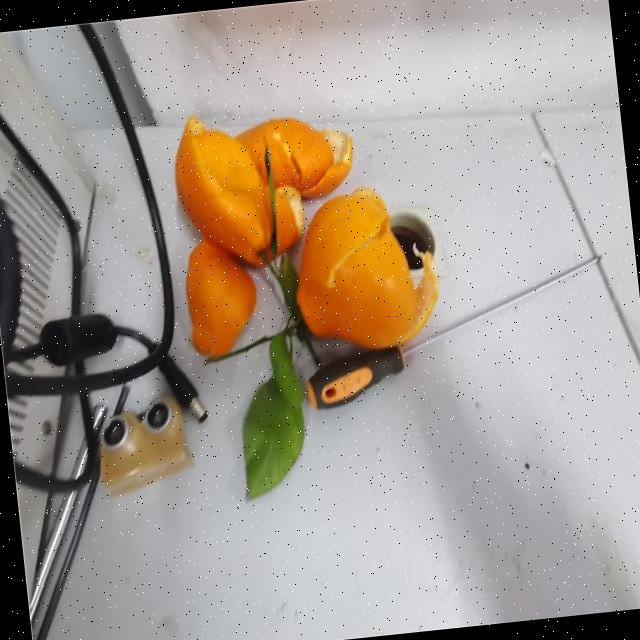orange-peel: (164, 88, 444, 370), (284, 178, 443, 357)
